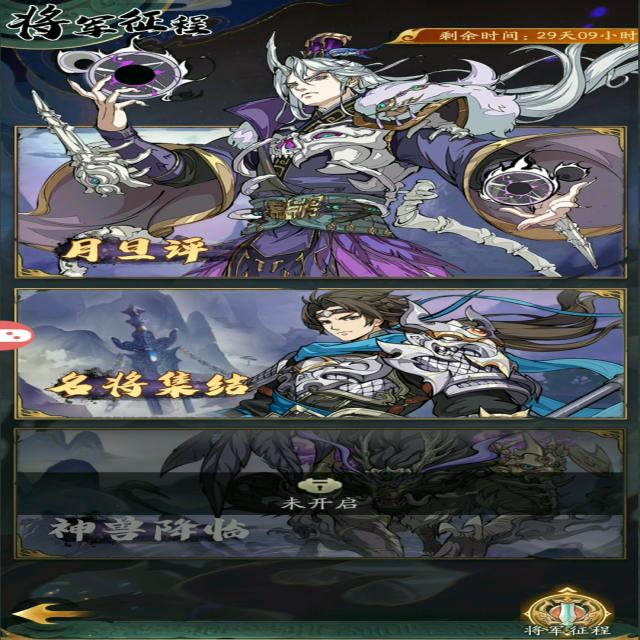operation-back: (0, 582, 109, 630)
operation-jiangjunzhengcheng: (510, 586, 630, 638)
operation-mingjiangjijie: (2, 296, 640, 425)
operation-shenshoujianglinoff: (8, 430, 618, 561)
operation-yuedanping: (22, 122, 636, 286)
